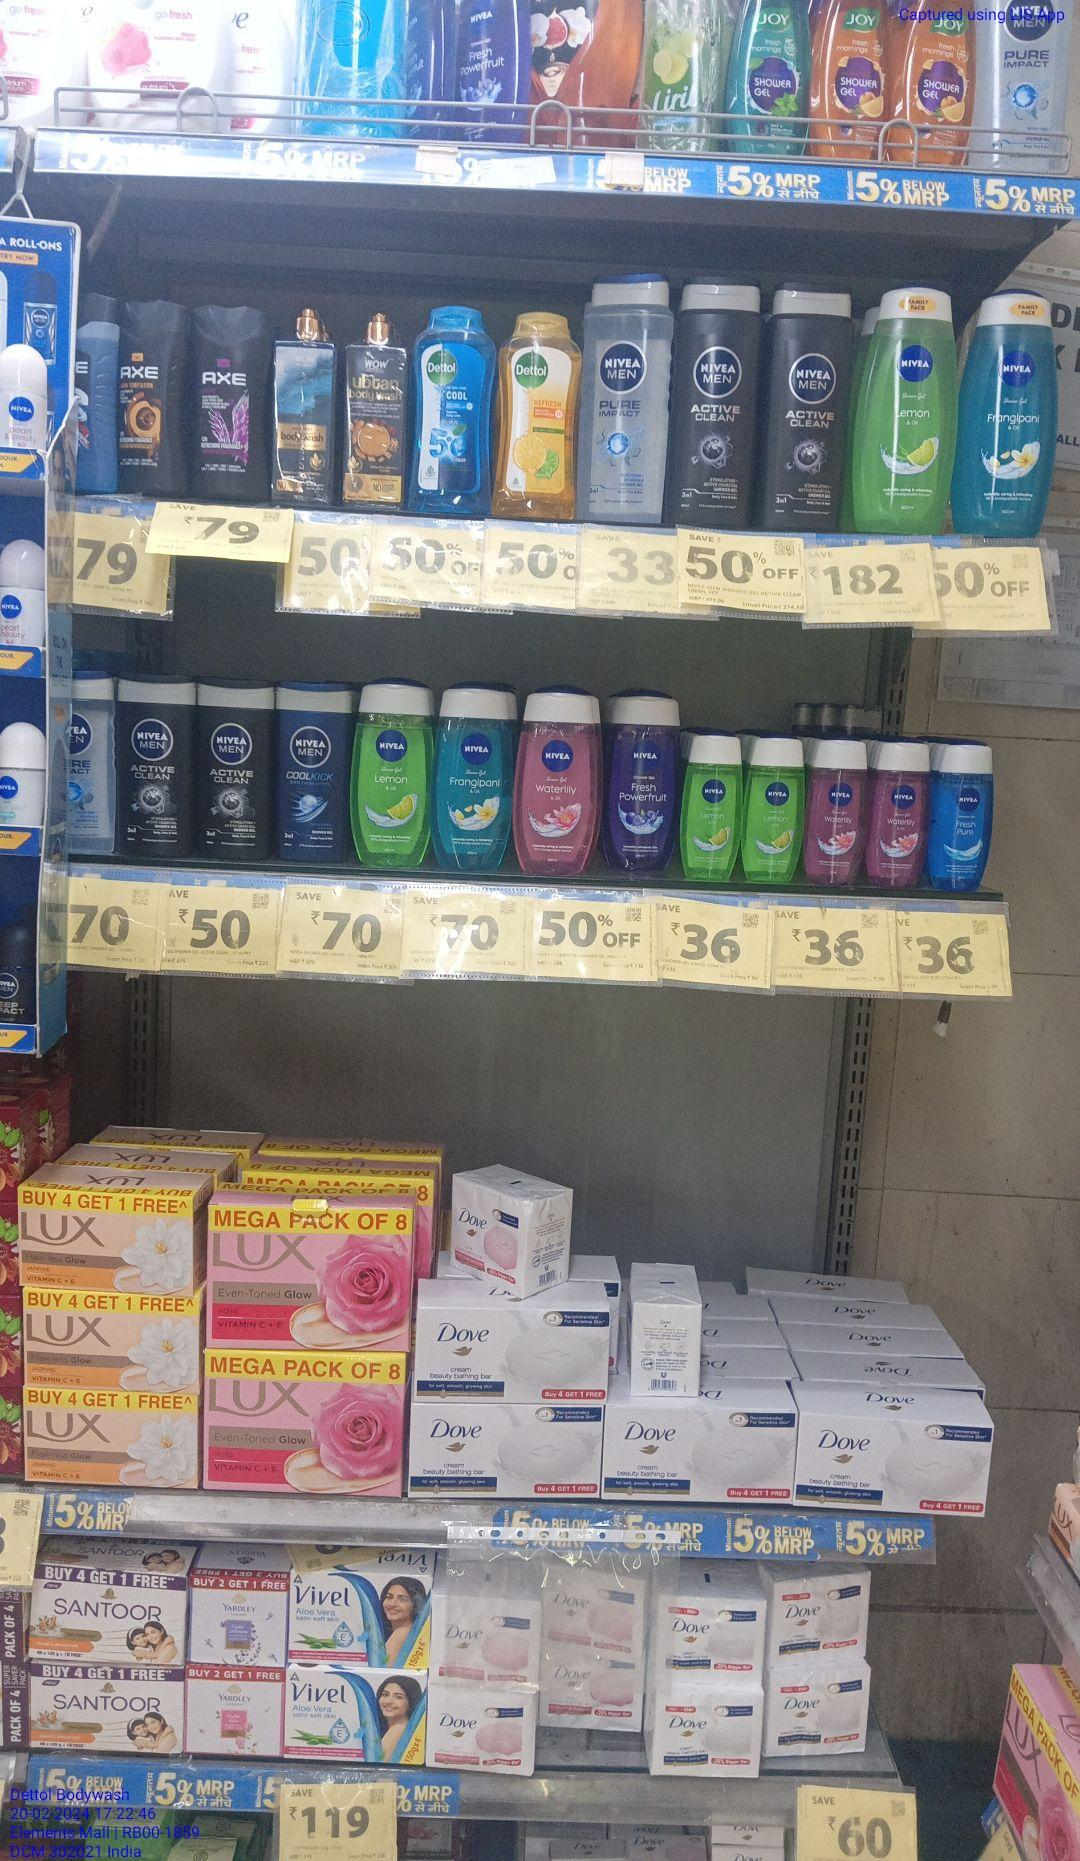Dettol_Bodywash_Cool: (415, 303, 495, 514)
Dettol_Bodywash_Refresh: (500, 302, 577, 521)
Joy_Shower_Gel_Mandarin_and_Lemongrass_250ML: (895, 0, 976, 170), (816, 0, 888, 159)
Joy_Shower_Gel_Mint_and_Eucalyptus_250ML: (729, 0, 813, 153)
Nivea_Shower_Gel_Frangipani_and_Oil_250ML: (966, 284, 1061, 539), (435, 688, 512, 871)
Nivea_Shower_Gel_Fresh_Powerfruit_250ML: (606, 688, 679, 870)
Nivea_Shower_Gel_Lemon_and_Oil_250ML: (860, 287, 958, 532), (352, 682, 433, 870)
Nivea_Shower_Gel_Waterlily_and_Oil_250ML: (516, 695, 602, 875)
